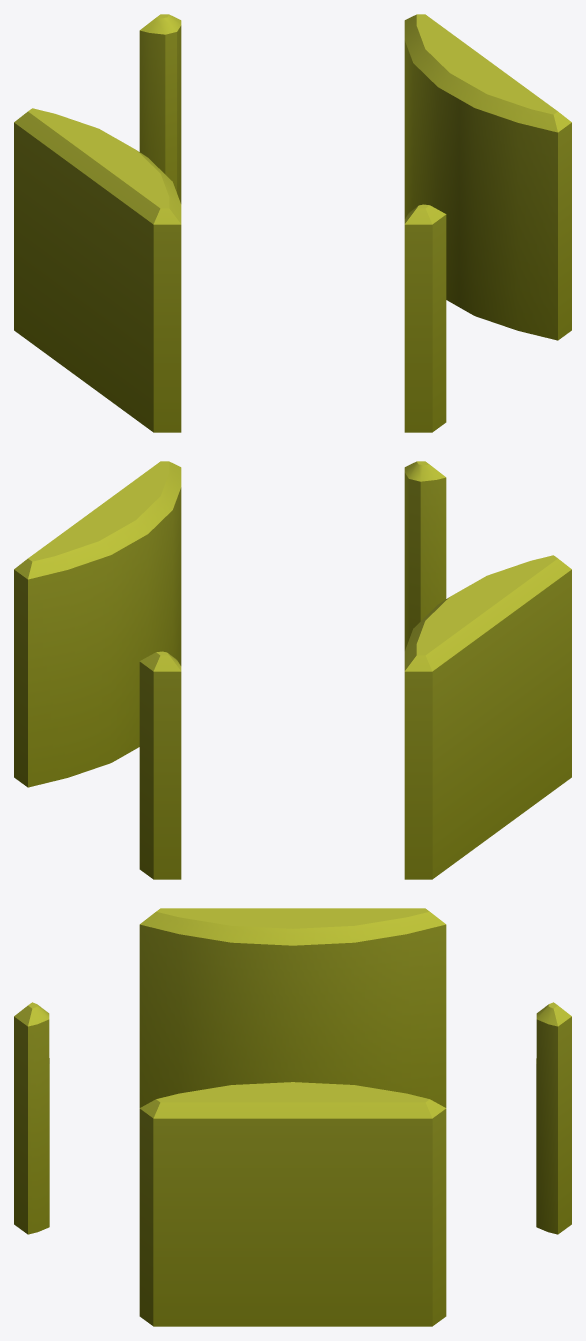
File: hex-river-i-waterless.glb
The picture shows the model from 3 angles, top to bottom: view 1: azimuth 30°, elevation 25°; view 2: azimuth 150°, elevation 25°; view 3: azimuth 270°, elevation 25°; orthographic projection.
Parts seen in each view (by area): view 1: hex_river_I_waterless; view 2: hex_river_I_waterless; view 3: hex_river_I_waterless.
Part boxes in pixels (x1,y1,x2,y2): hex_river_I_waterless: (14, 14, 571, 432); hex_river_I_waterless: (14, 461, 571, 879); hex_river_I_waterless: (14, 908, 571, 1326).
Bounding box in the file's own units: 2 × 1 × 2.31.
1 material, 1 textured.
